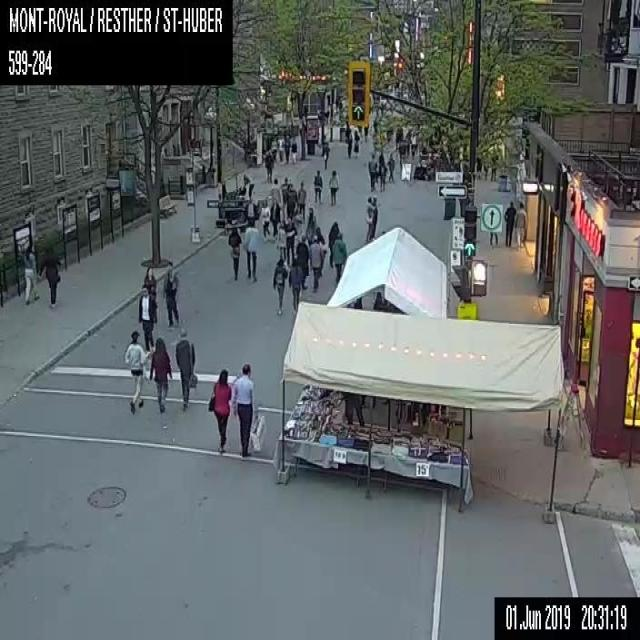pedestrian: (230, 362, 266, 457), (124, 329, 148, 413), (174, 327, 197, 409), (208, 368, 230, 453), (148, 337, 172, 412), (138, 284, 156, 356), (162, 260, 179, 326), (241, 220, 258, 282), (307, 234, 323, 293), (44, 247, 60, 305), (272, 257, 287, 314), (24, 244, 38, 304), (144, 265, 158, 323), (288, 258, 302, 314), (227, 226, 241, 280), (332, 232, 346, 285), (327, 220, 341, 268), (364, 195, 378, 241), (503, 200, 516, 246), (514, 201, 526, 249), (284, 182, 298, 220), (284, 217, 296, 260), (269, 198, 280, 240), (244, 195, 257, 228), (260, 198, 270, 240), (296, 181, 306, 221), (269, 177, 281, 210), (276, 221, 286, 258), (306, 206, 316, 242), (328, 168, 338, 204), (280, 176, 288, 221), (368, 152, 376, 192), (264, 150, 274, 181), (313, 169, 322, 203), (378, 158, 387, 190), (386, 152, 394, 182), (320, 143, 329, 169), (366, 195, 373, 226), (352, 128, 359, 156), (290, 137, 297, 163), (277, 135, 284, 161), (314, 226, 324, 243), (284, 134, 290, 162), (410, 131, 416, 158), (476, 155, 482, 180), (270, 136, 276, 160), (395, 126, 401, 150), (488, 231, 498, 245), (347, 131, 352, 158), (404, 132, 409, 155), (489, 166, 496, 180), (483, 163, 488, 180), (378, 150, 384, 164), (363, 125, 368, 141), (356, 124, 362, 134)
